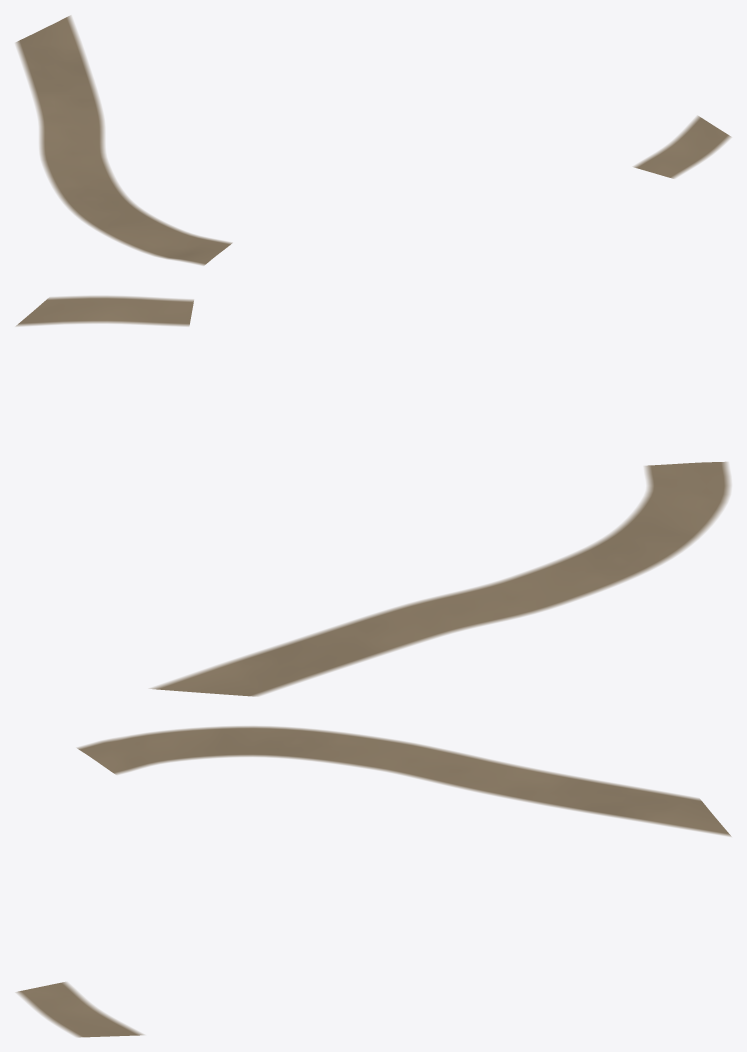
The model's file is paths_wetland.glb.
3 views of the same model, one above another, from view 1: azimuth 30°, elevation 25°; view 2: azimuth 150°, elevation 25°; view 3: azimuth 270°, elevation 25° (orthographic). The views are drawn at different scales.
Parts seen in each view (by area): view 1: path_to_wetland, path_meadow_lake; view 2: path_to_wetland, path_meadow_lake; view 3: path_to_wetland, path_meadow_lake.
Part boxes in pixels (box(x1,y1,x2,y2)): path_to_wetland: box(15, 15, 232, 265); path_meadow_lake: box(633, 115, 731, 178); path_to_wetland: box(149, 461, 731, 696); path_meadow_lake: box(16, 296, 193, 326); path_to_wetland: box(77, 726, 731, 836); path_meadow_lake: box(15, 982, 144, 1037).
Bounding box in the file's own units: 13.42 × 0.043 × 12.99.
